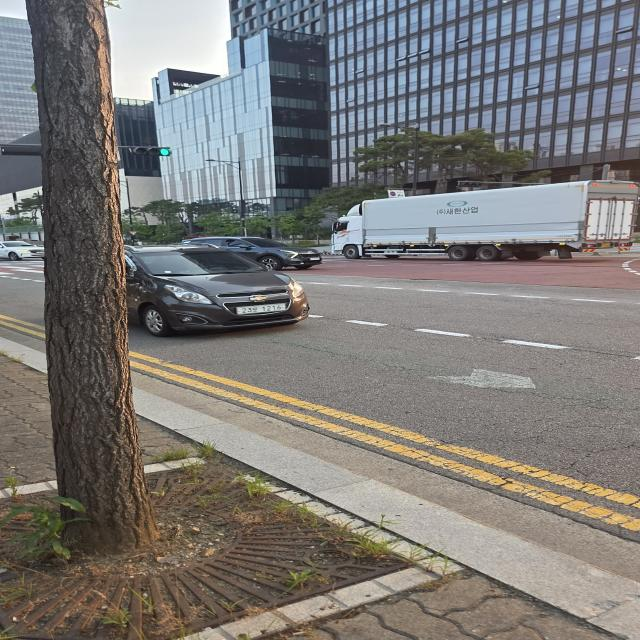car: (88, 224, 312, 361), (323, 178, 640, 270), (181, 229, 328, 273), (1, 237, 58, 263)
